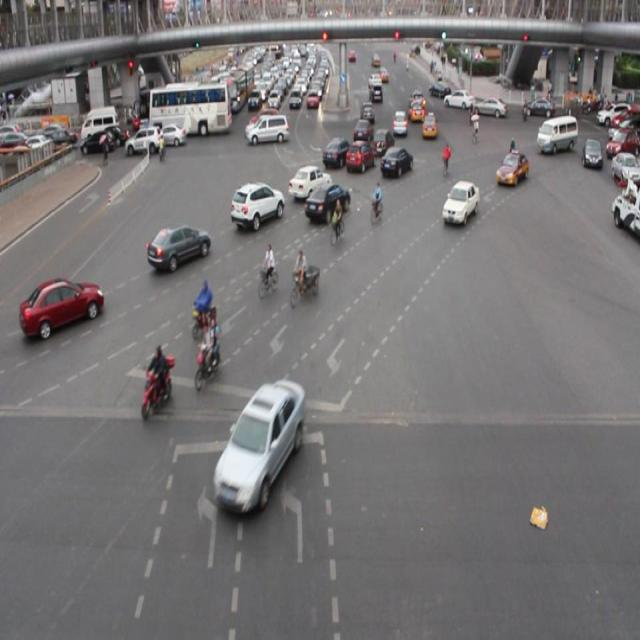car: (216, 384, 301, 494), (19, 276, 107, 336), (147, 222, 211, 268), (230, 181, 284, 228), (304, 182, 350, 220), (441, 180, 478, 226), (288, 165, 331, 202), (494, 150, 528, 190), (379, 145, 413, 180), (345, 139, 376, 175), (320, 137, 351, 169), (372, 128, 394, 154)
truck: (535, 116, 577, 154)
